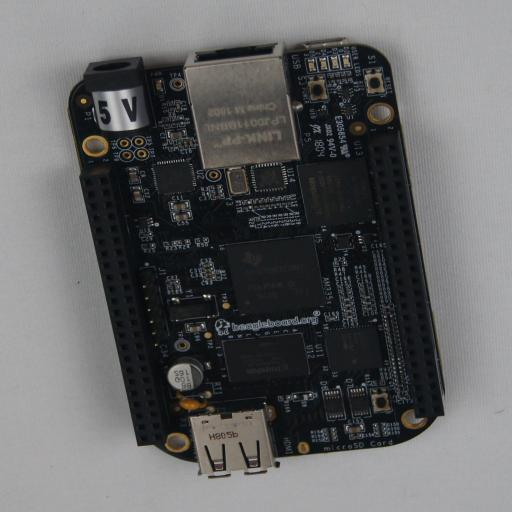Beaglebone Black: (67, 38, 445, 478)
